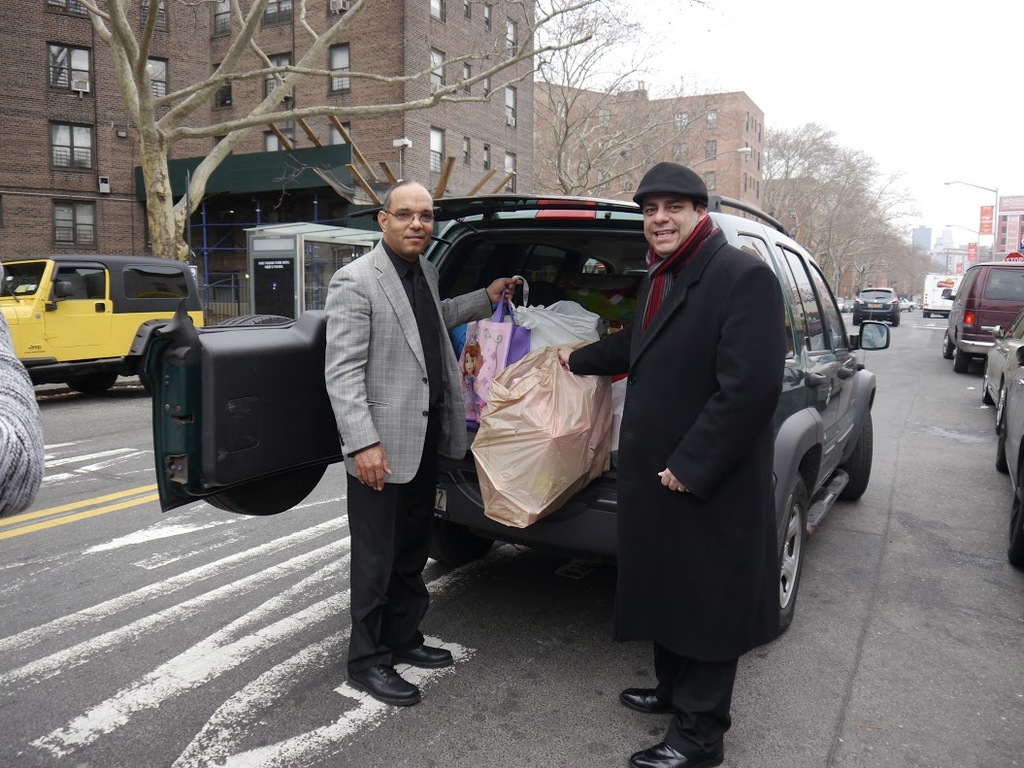Car: (147, 189, 869, 643), (940, 260, 1023, 370), (988, 343, 1023, 583), (977, 307, 1023, 421), (850, 277, 900, 337)
